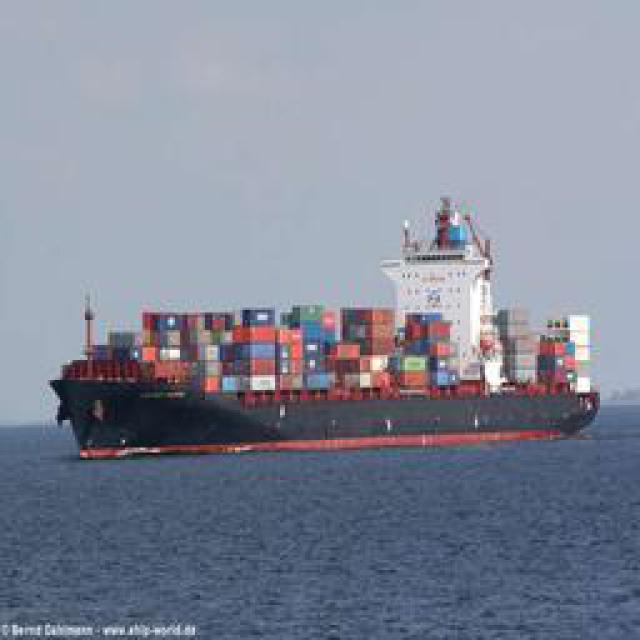Ship: (54, 190, 604, 458)
